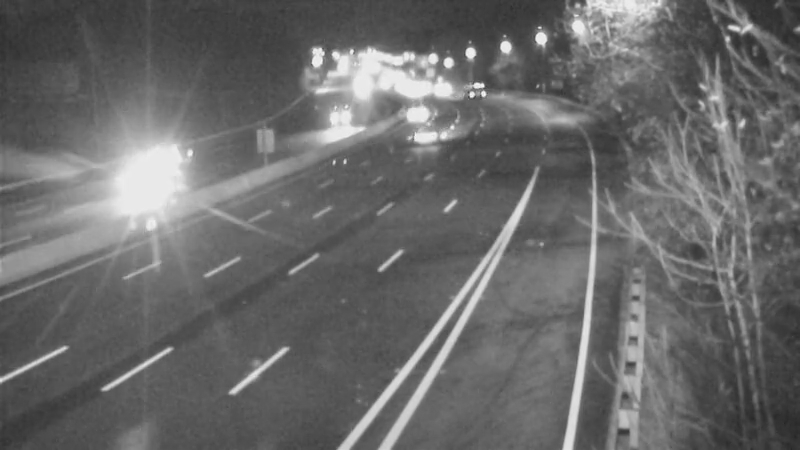vehicle: (113, 116, 193, 196), (109, 153, 189, 233), (451, 66, 501, 116), (417, 65, 467, 115), (390, 88, 440, 138), (406, 111, 456, 161), (308, 93, 358, 143)
